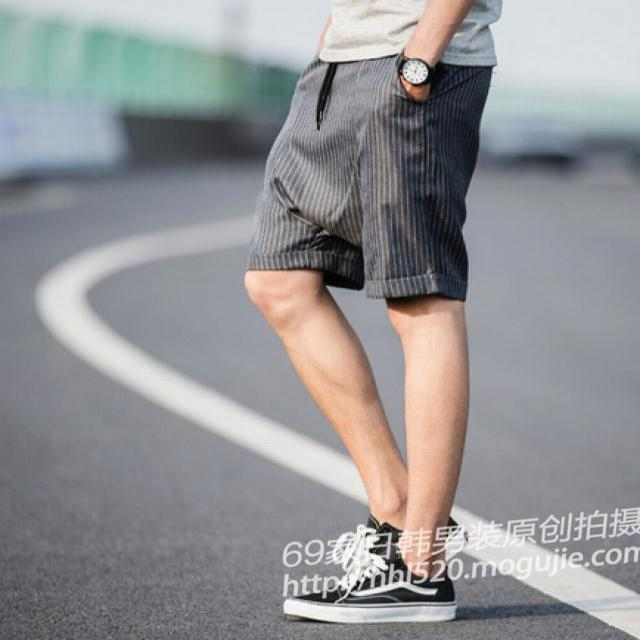short sleeve top: (319, 2, 502, 65)
shorts: (246, 29, 491, 301)
